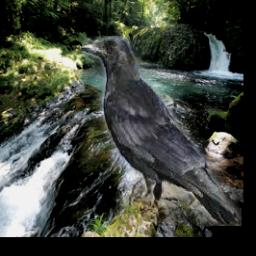Crow: (82, 36, 242, 226)
